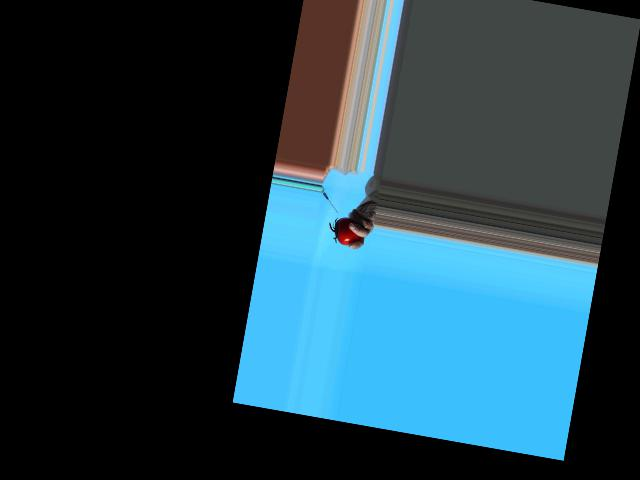tomato: (332, 216, 363, 248)
